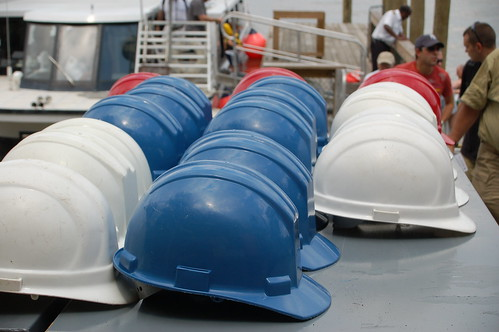hardhat: (127, 159, 336, 320), (1, 118, 147, 304), (181, 131, 349, 271), (312, 112, 476, 238), (340, 83, 457, 174), (206, 104, 323, 179), (79, 99, 195, 173), (364, 67, 461, 146), (227, 88, 323, 158), (250, 75, 331, 154), (132, 82, 221, 132), (217, 69, 312, 113), (110, 70, 170, 103)
